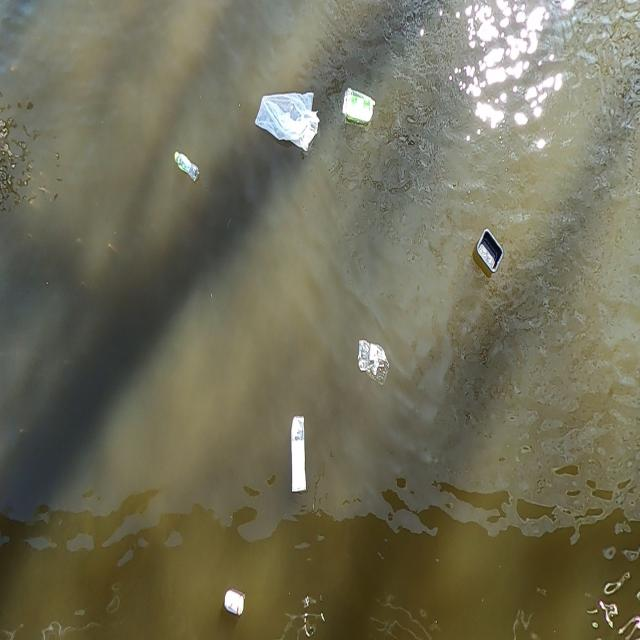Bouteille plastique: (171, 149, 201, 190)
Non plastique: (223, 589, 247, 616)
Sac plastique: (256, 83, 323, 160)
